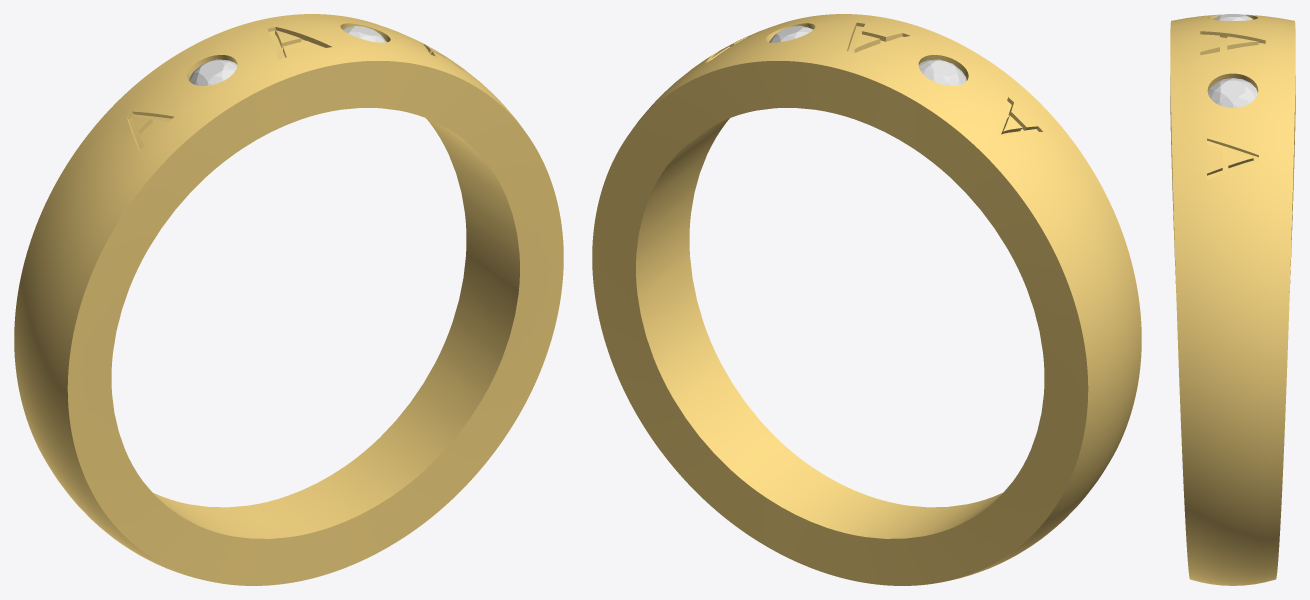
The model's file is Mike_engraved_AAA_blender.glb.
3 views of the same model, side by side, from view 1: azimuth 30°, elevation 25°; view 2: azimuth 150°, elevation 25°; view 3: azimuth 270°, elevation 25° (orthographic). The views are drawn at different scales.
Visible parts, largest first — view 1: engraved YG for 3d model, engraved dia for 3d model.001; view 2: engraved YG for 3d model, engraved dia for 3d model.001; view 3: engraved YG for 3d model, engraved dia for 3d model, engraved dia for 3d model.001.
Boxes of the visible parts, left/top/right/bottom form: engraved YG for 3d model: left=14, top=14, right=563, bottom=585; engraved dia for 3d model.001: left=189, top=59, right=237, bottom=85; engraved YG for 3d model: left=592, top=14, right=1141, bottom=585; engraved dia for 3d model.001: left=918, top=59, right=966, bottom=85; engraved YG for 3d model: left=1170, top=14, right=1295, bottom=585; engraved dia for 3d model: left=1208, top=78, right=1257, bottom=107; engraved dia for 3d model.001: left=1213, top=14, right=1252, bottom=20.
Bounding box in the file's own units: 20.51 × 20.51 × 4.5.
